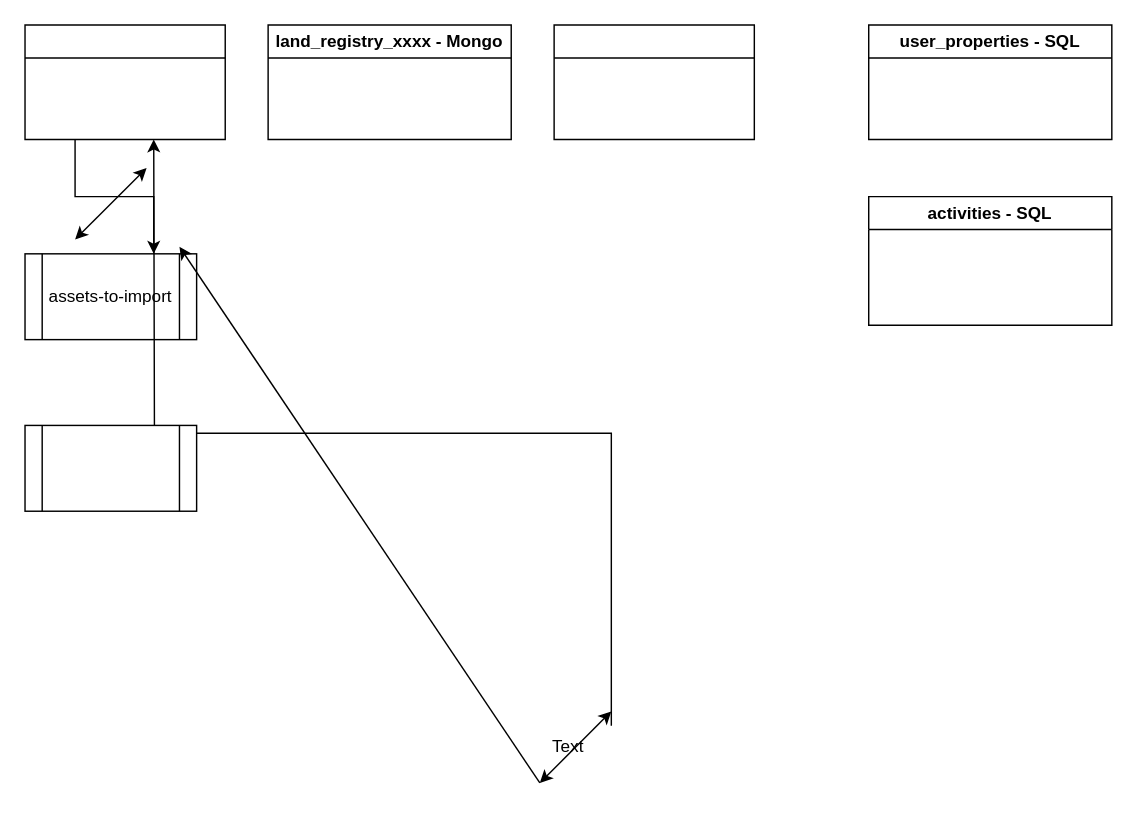
Image size: 1137x821. Some labels were removed from this diagram. Each missing label, with the box of its shape:
assets_xxxx - Mongo: (24, 24, 225, 139)
epc_data_xxxx - Mongo: (553, 24, 754, 139)
